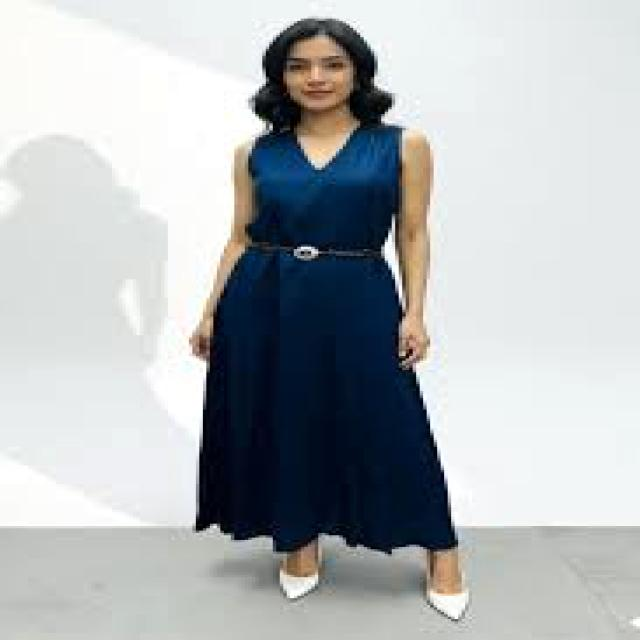dress: (193, 245, 458, 553)
